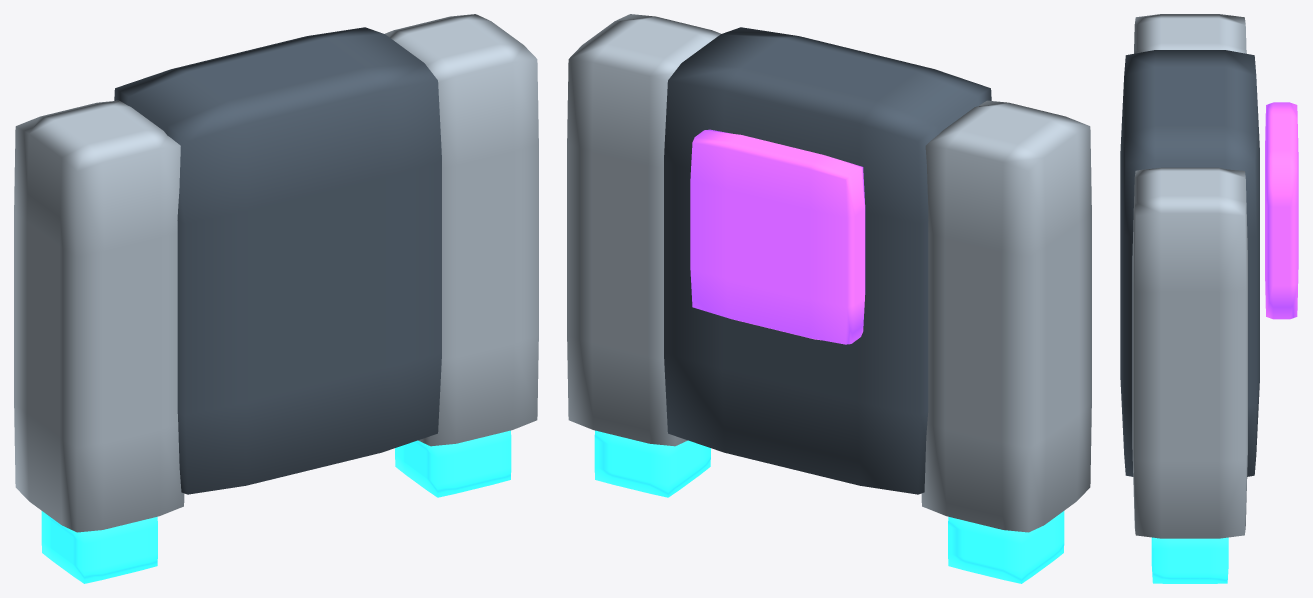
File: jetpack-orbit.glb
The picture shows the model from 3 angles, left to right: view 1: azimuth 30°, elevation 25°; view 2: azimuth 150°, elevation 25°; view 3: azimuth 270°, elevation 25°; orthographic projection. The views are drawn at different scales.
Visible parts, largest first — view 1: Core, EngineL, EngineR, GlowL, GlowR; view 2: Core, EngineL, EngineR, Panel, GlowL, GlowR; view 3: EngineR, Core, Panel, EngineL, GlowR.
Boxes of the visible parts, x1=… form: Core: x1=114, y1=27, x2=441, y2=494; EngineL: x1=14, y1=100, x2=184, y2=532; EngineR: x1=385, y1=14, x2=538, y2=446; GlowL: x1=41, y1=511, x2=157, y2=583; GlowR: x1=395, y1=430, x2=511, y2=497; Core: x1=664, y1=27, x2=991, y2=494; EngineL: x1=921, y1=100, x2=1091, y2=532; EngineR: x1=567, y1=14, x2=720, y2=446; Panel: x1=690, y1=129, x2=865, y2=344; GlowL: x1=948, y1=511, x2=1064, y2=583; GlowR: x1=594, y1=430, x2=710, y2=497; EngineR: x1=1132, y1=167, x2=1247, y2=538; Core: x1=1120, y1=50, x2=1259, y2=476; Panel: x1=1265, y1=102, x2=1298, y2=319; EngineL: x1=1134, y1=14, x2=1246, y2=53; GlowR: x1=1151, y1=537, x2=1228, y2=583.
Size of the model in its own units: 1.98 by 1.81 by 0.74.
